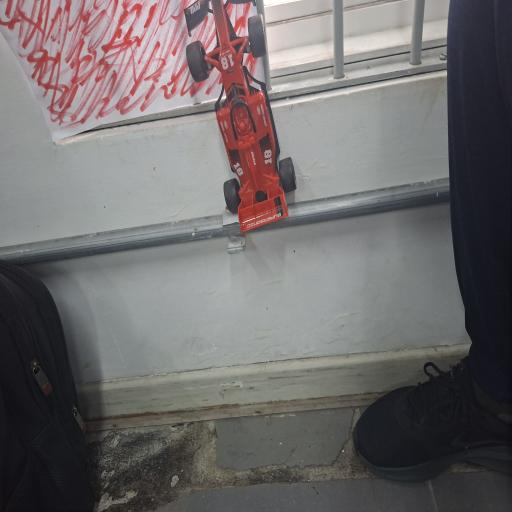carro: (185, 0, 296, 232)
